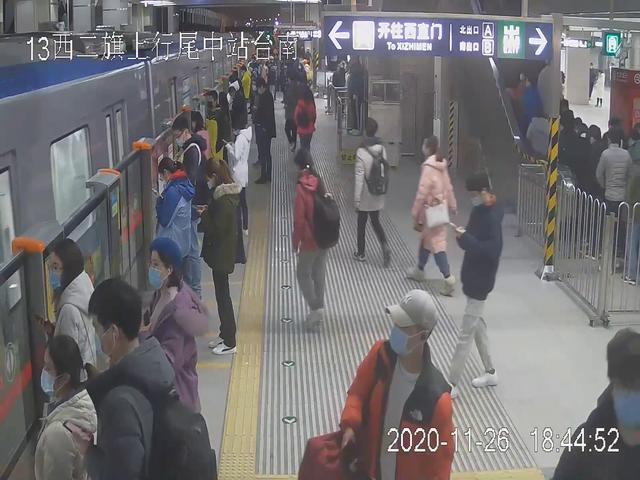person: (343, 288, 461, 480), (89, 279, 179, 480), (139, 235, 206, 480), (38, 241, 102, 480), (442, 167, 502, 390), (198, 151, 249, 354), (151, 155, 205, 334), (30, 336, 93, 480), (409, 127, 457, 293), (291, 142, 332, 334), (354, 115, 391, 273), (253, 79, 277, 184), (293, 85, 321, 165)
